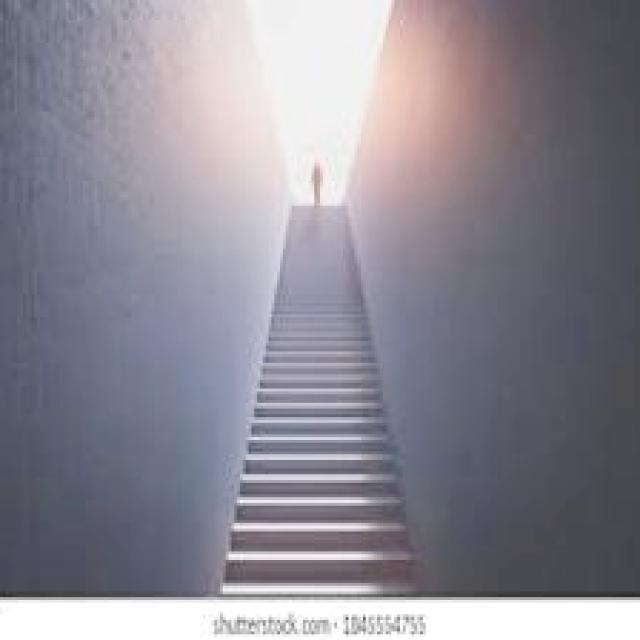upstair: (190, 356, 450, 596)
